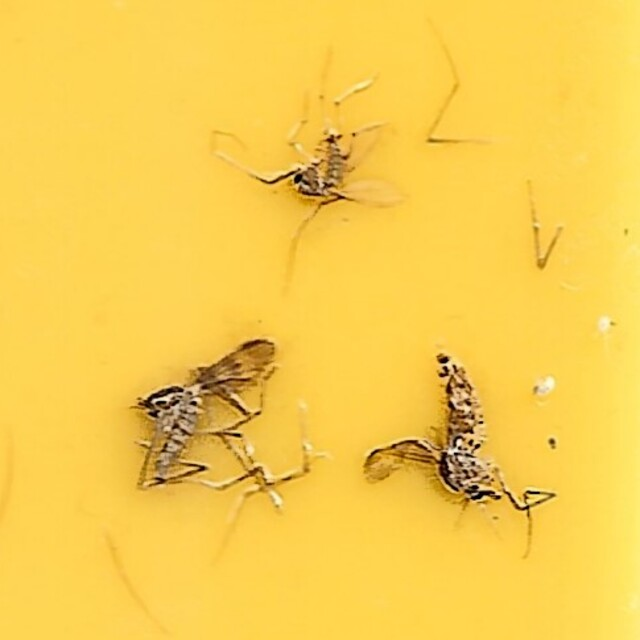Nematocera: (364, 352, 508, 514), (132, 338, 278, 494), (285, 126, 405, 224)
